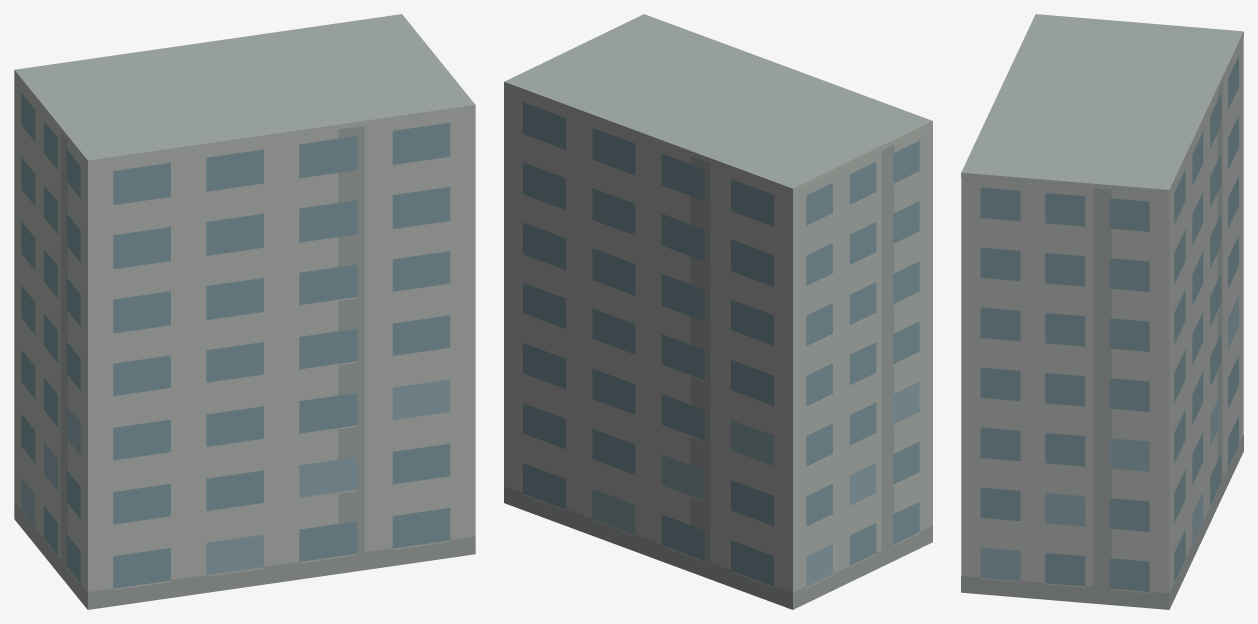
File: survey-upis-33023226.glb
3 views of the same model, side by side, from view 1: azimuth 30°, elevation 25°; view 2: azimuth 150°, elevation 25°; view 3: azimuth 270°, elevation 25° (orthographic). The views are drawn at different scales.
Parts seen in each view (by area): view 1: survey-upis-33023226.tmp; view 2: survey-upis-33023226.tmp; view 3: survey-upis-33023226.tmp.
Part boxes in pixels (box(x1,y1,x2,y2)): survey-upis-33023226.tmp: box(14, 14, 475, 609); survey-upis-33023226.tmp: box(504, 14, 932, 609); survey-upis-33023226.tmp: box(961, 14, 1243, 609).
Bounding box in the file's own units: 19.19 × 21.35 × 13.04.
